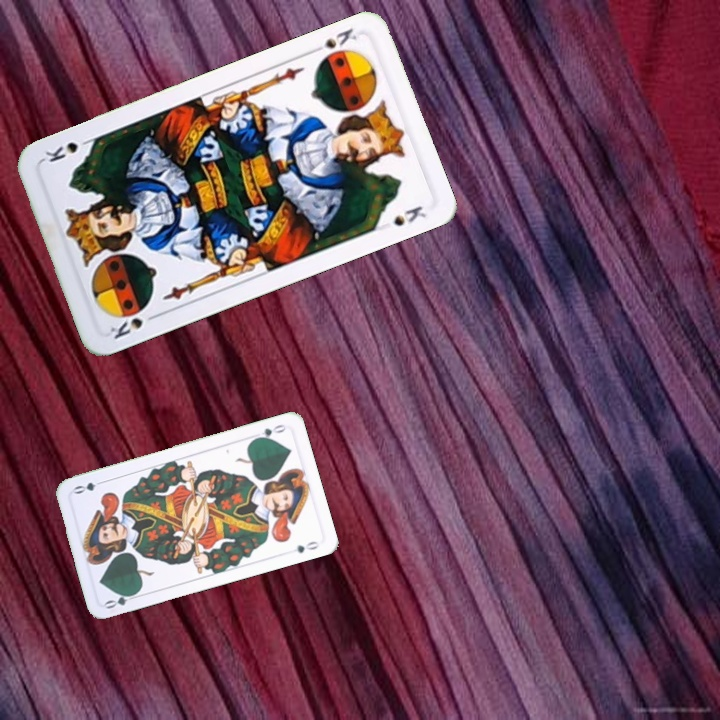GO: (101, 588, 141, 612), (250, 420, 288, 443)
SK: (106, 302, 162, 342), (307, 24, 359, 57)
